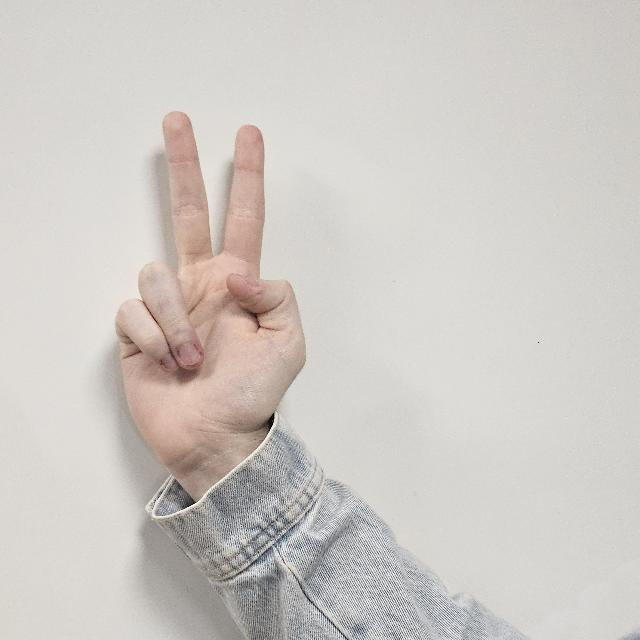Triangulo: (92, 98, 326, 488)
